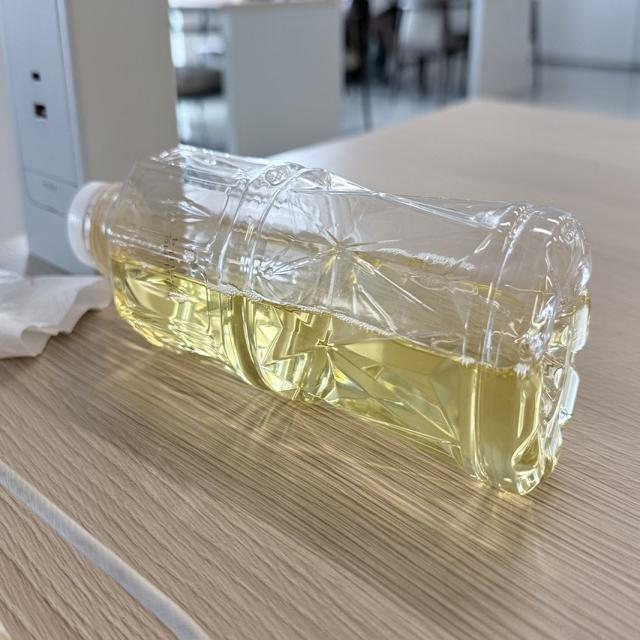medium: (68, 146, 590, 491)
